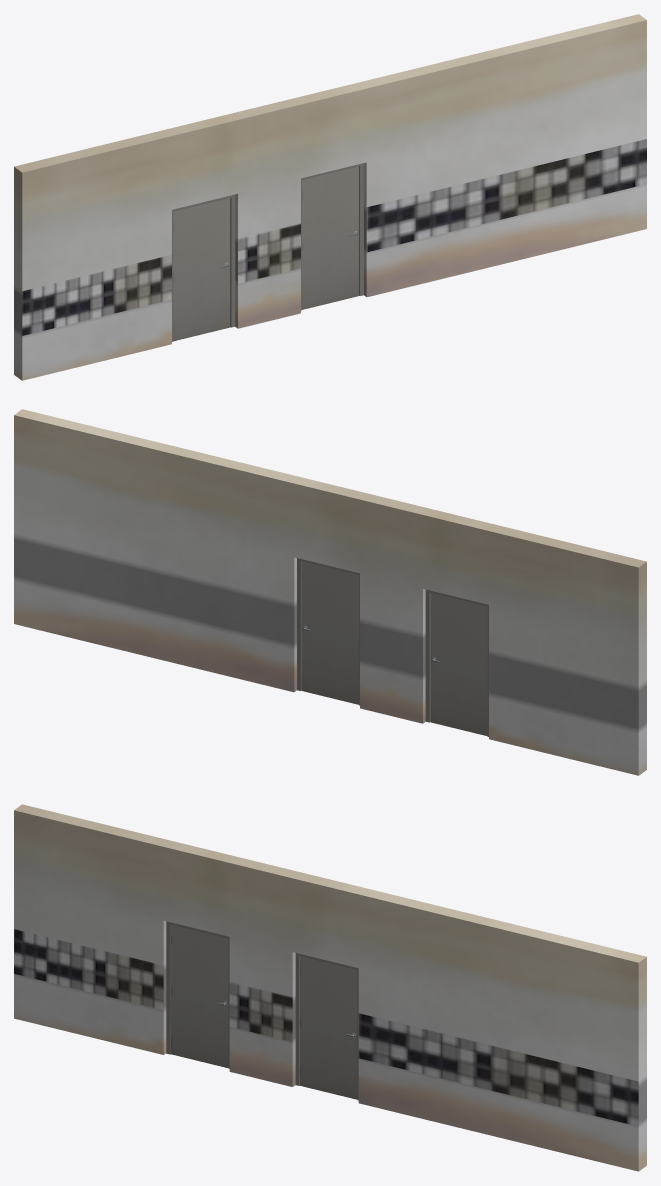
Rendered from Door 1.fbx.
3 renders of one model, top to bottom at view 1: azimuth 30°, elevation 25°; view 2: azimuth 150°, elevation 25°; view 3: azimuth 330°, elevation 25°, orthographic.
Visible parts, largest first — view 1: Cube, Porta, Porta.001, Moldura.001, Moldura; view 2: Cube, Porta, Porta.001, Moldura.001, Moldura; view 3: Cube, Porta.001, Porta, Moldura, Moldura.001.
Boxes of the visible parts, x1=… form: Cube: x1=14, y1=14, x2=646, y2=380; Porta: x1=302, y1=166, x2=359, y2=309; Porta.001: x1=173, y1=198, x2=230, y2=341; Moldura.001: x1=172, y1=194, x2=235, y2=341; Moldura: x1=301, y1=163, x2=363, y2=310; Cube: x1=14, y1=409, x2=646, y2=775; Porta: x1=301, y1=561, x2=358, y2=704; Porta.001: x1=430, y1=593, x2=487, y2=736; Moldura.001: x1=425, y1=589, x2=488, y2=736; Moldura: x1=297, y1=558, x2=359, y2=705; Cube: x1=14, y1=804, x2=646, y2=1171; Porta.001: x1=171, y1=924, x2=228, y2=1068; Porta: x1=300, y1=956, x2=357, y2=1099; Moldura: x1=295, y1=953, x2=358, y2=1100; Moldura.001: x1=166, y1=921, x2=229, y2=1068.
Bounding box in the file's own units: 1004 × 321 × 22.85.
